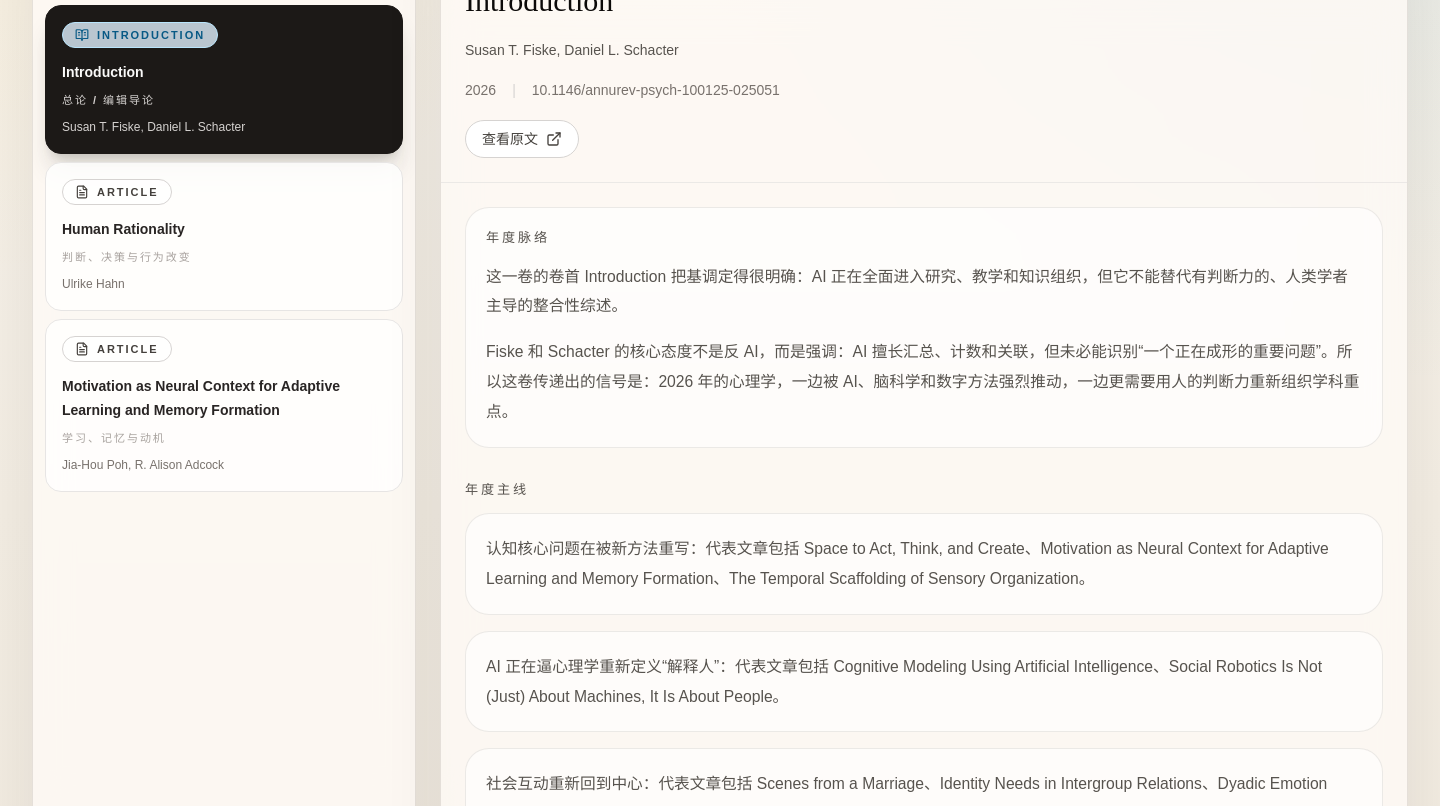
Scenario: ReviewExplorer › shows a real deep reading entry without the placeholder notice
(page scrolled)
Click the button "Motivation as Neural Context for Adaptive Learning and Memory Formation": (224, 405) [45,319,403,492]
(page scrolled)
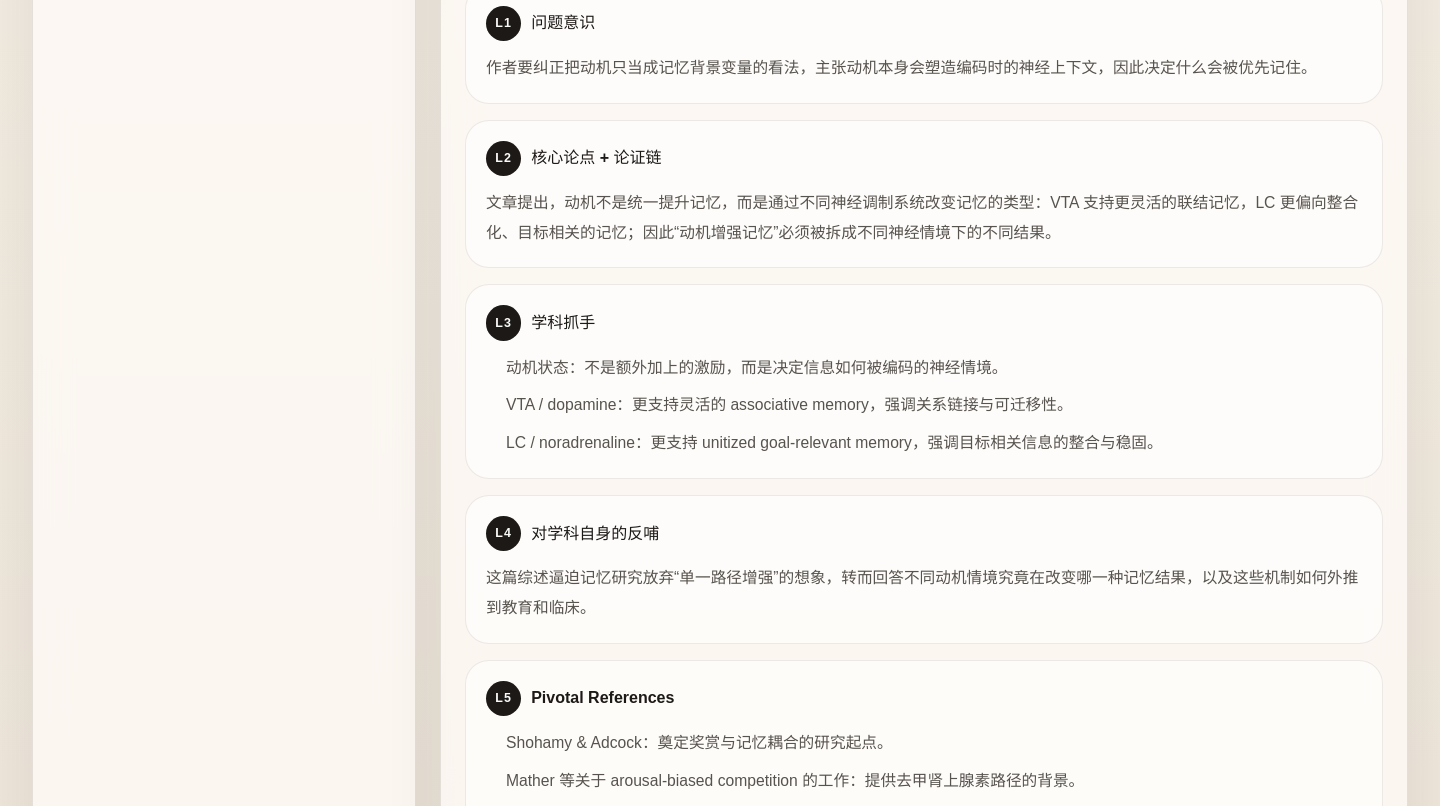
Expected: the text "作者要纠正把动机只当成记忆背景变量的看法，主张动机本身会塑造编码时的神经上下文，因此决定什么会被优先记住。" is shown, [486,59,1317,76]
Expected: the list item "VTA / dopamine：更支持灵活的 associative memory，强调关系链接与可迁移性。" is shown, [506,396,1073,413]
